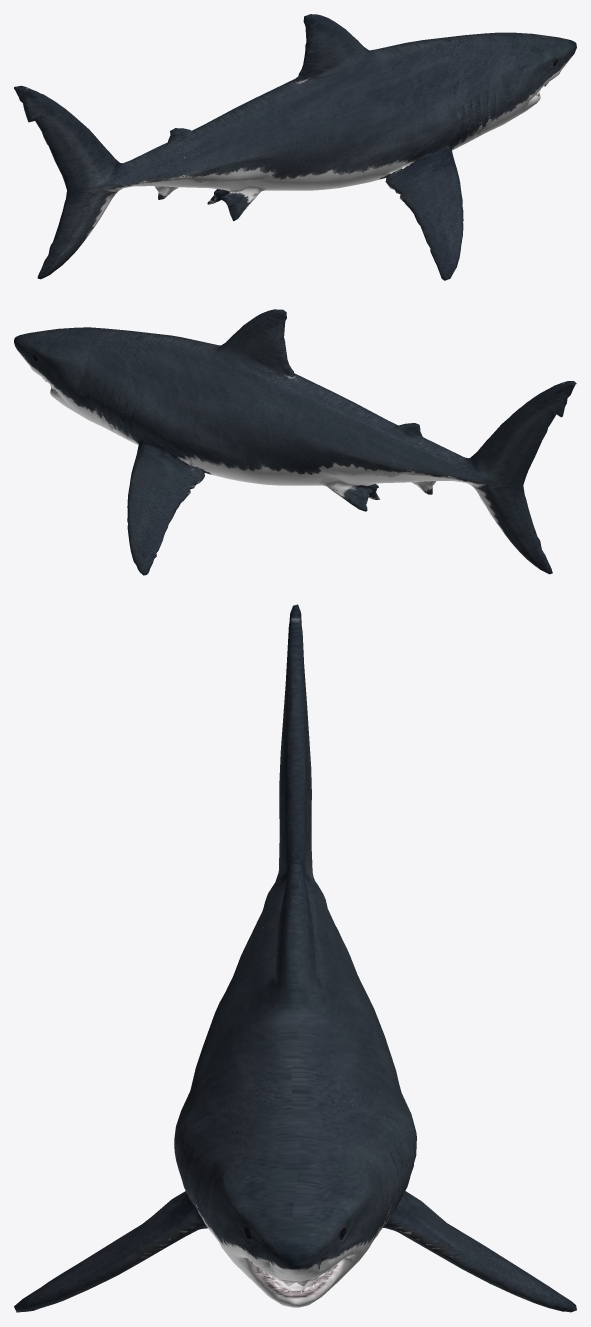
The model's file is greatwhite.glb.
The picture shows the model from 3 angles, top to bottom: view 1: azimuth 30°, elevation 25°; view 2: azimuth 150°, elevation 25°; view 3: azimuth 270°, elevation 25°; orthographic projection. The views are drawn at different scales.
Visible parts, largest first — view 1: greatwhite; view 2: greatwhite; view 3: greatwhite.
Boxes of the visible parts, x1,y1,x2,y2 form: greatwhite: (14,14,576,280); greatwhite: (14,309,576,575); greatwhite: (14,604,576,1312).
Bounding box in the file's own units: 2 × 0.7575 × 0.9688.
1 material, 1 textured.
